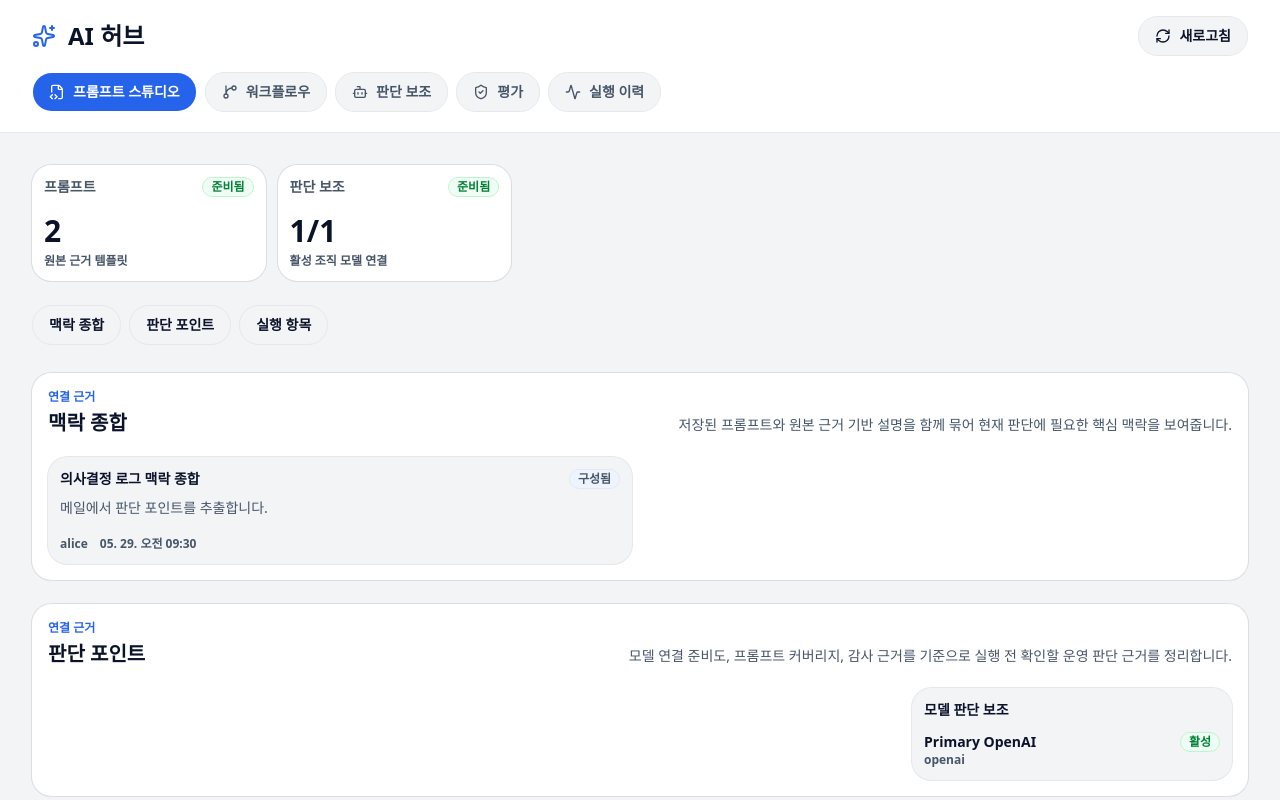
it: AIHubPage › renders an accessible evaluation empty state when no metrics exist
Click the tab "평가".
click(498, 92)  # box top-left (456, 72), bottom-right (540, 112)
(page scrolled)
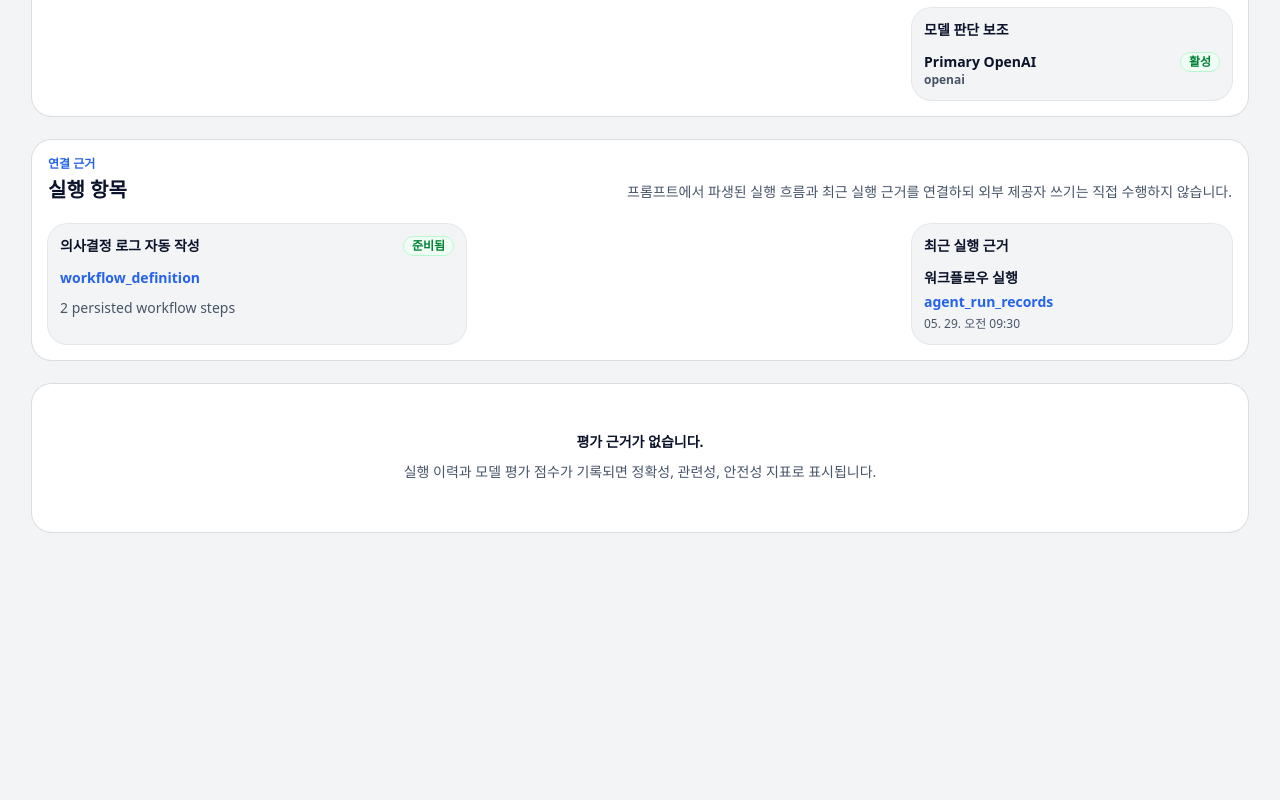
Check: the text "평가 근거가 없습니다." is shown, box top-left (576, 432), bottom-right (704, 451)
Check: the text "정확성, 관련성, 안전성 지표" is shown, box top-left (404, 462), bottom-right (876, 481)
Check: the message "평가 근거가 없습니다. 실행 이력과 모델 평가 점수가 기록되면 정확성, 관련성, 안전성 지표로 표시됩니다." is shown, box top-left (32, 384), bottom-right (1248, 532)
